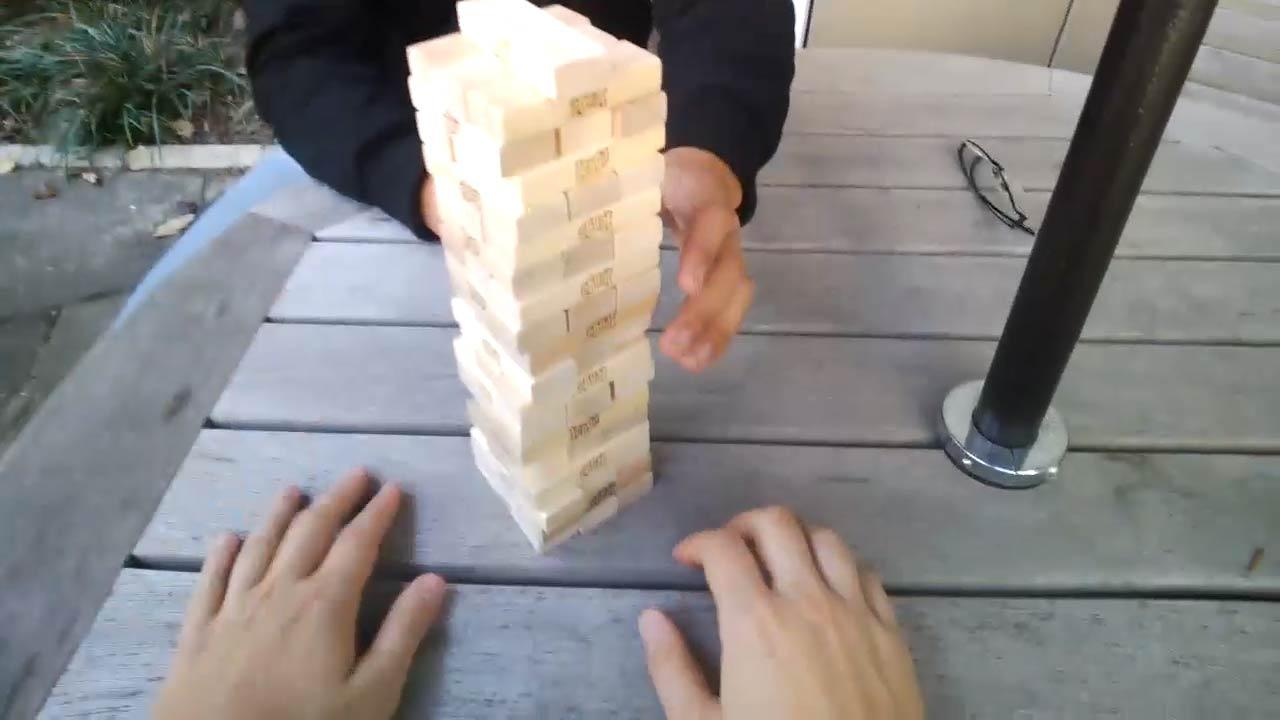hand: (157, 467, 454, 720), (642, 499, 920, 720), (658, 143, 760, 376)
